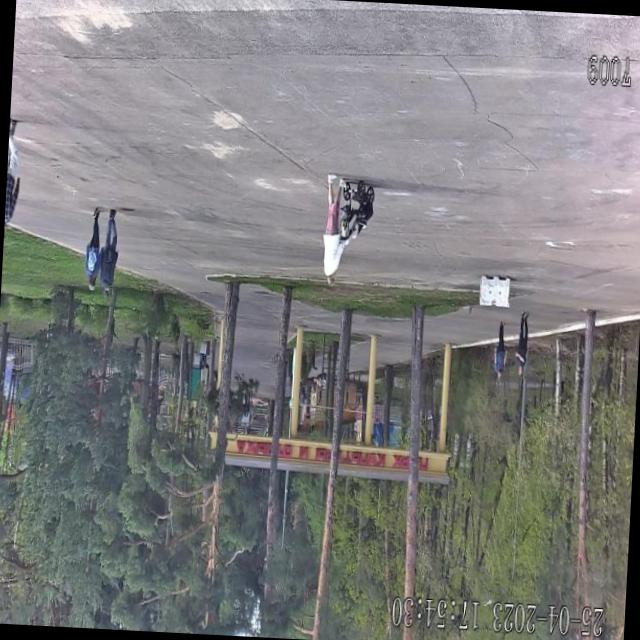person: (320, 172, 350, 287), (4, 120, 23, 242), (98, 209, 121, 298), (82, 208, 104, 290)
